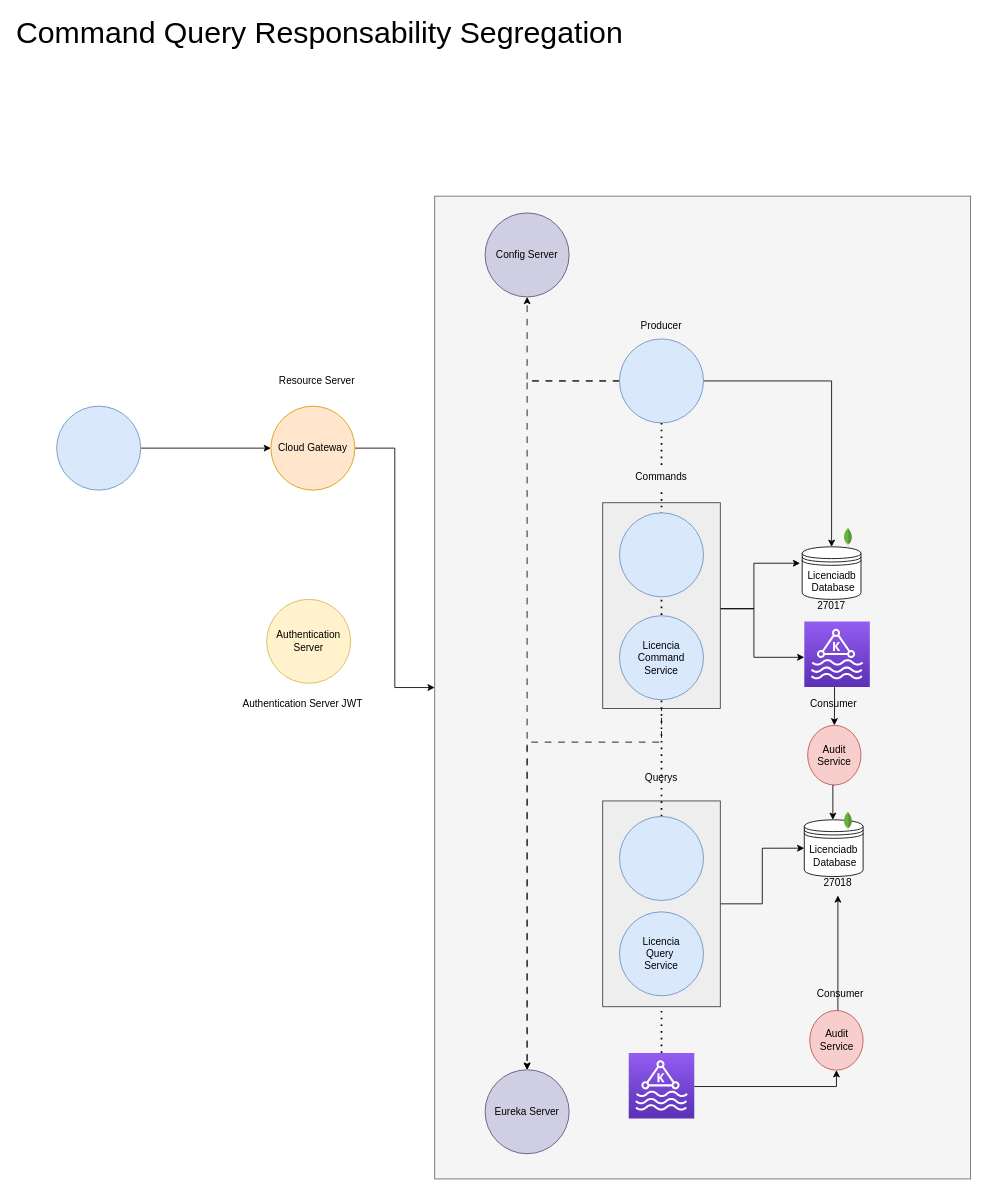
Image size: 985x1194. Some labels were removed from this diagram. The shapes that lost their labels are listed below. From the top down, each one's centre as x and y in pixels, then its label:
At point 661,380: "User Service".
At point 98,447: "Client Service".
At point 661,554: "Clientes Command Service".
At point 661,858: "Clientes Query Service".
